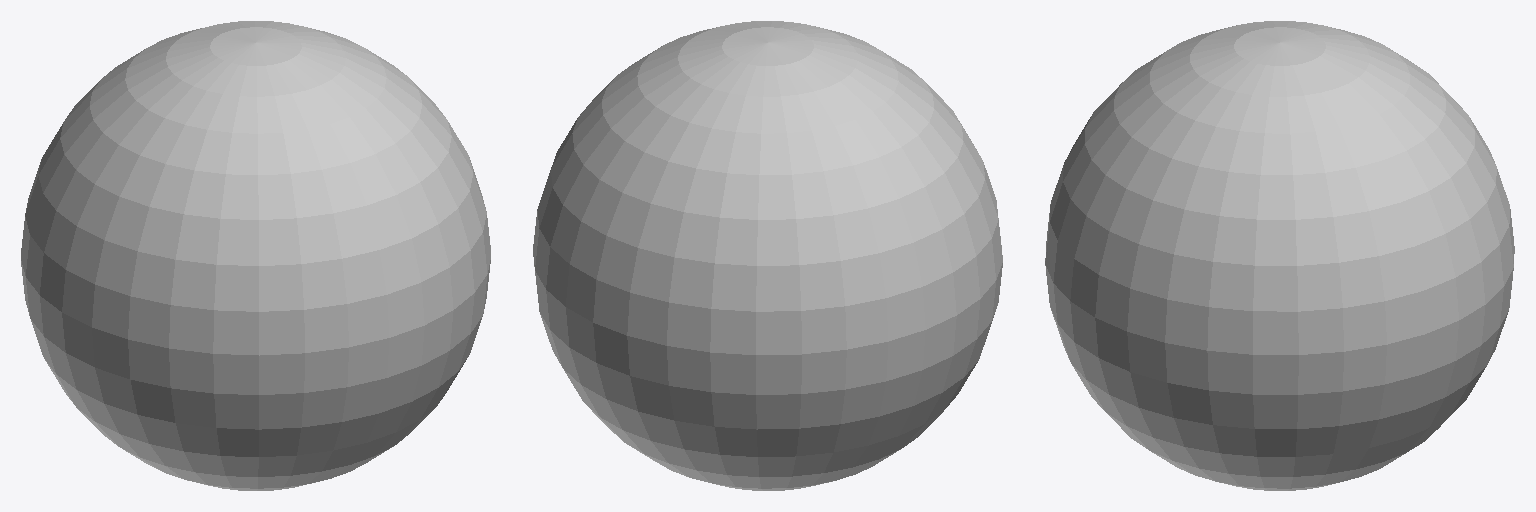
File: Haikyo.obj
3 renders of one model, left to right at view 1: azimuth 30°, elevation 25°; view 2: azimuth 150°, elevation 25°; view 3: azimuth 270°, elevation 25°, orthographic.
Parts seen in each view (by area): view 1: 球; view 2: 球; view 3: 球.
Part boxes in pixels (left/top/right/bottom): 球: left=21, top=21, right=490, bottom=490; 球: left=533, top=21, right=1002, bottom=490; 球: left=1045, top=21, right=1514, bottom=490.
Bounding box in the file's own units: 598 × 600 × 598.